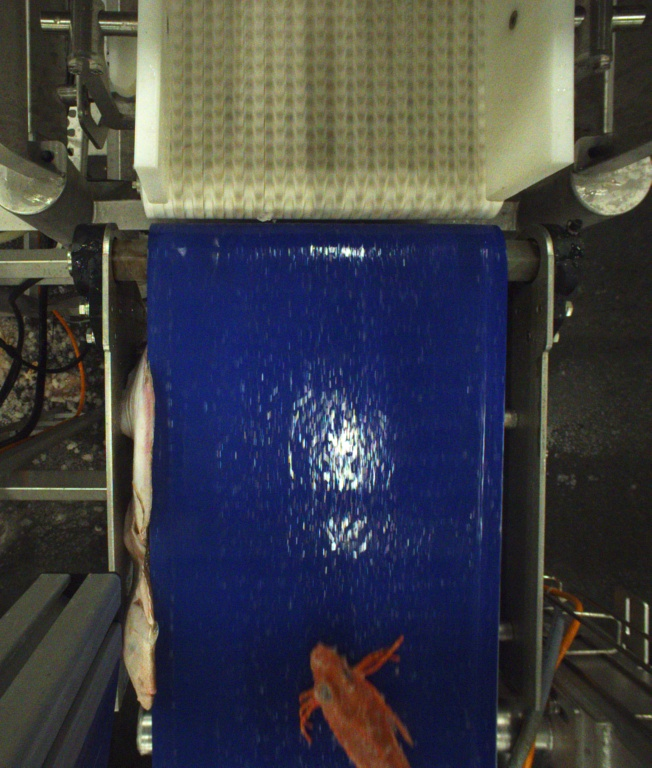GUU: (297, 636, 410, 768)
